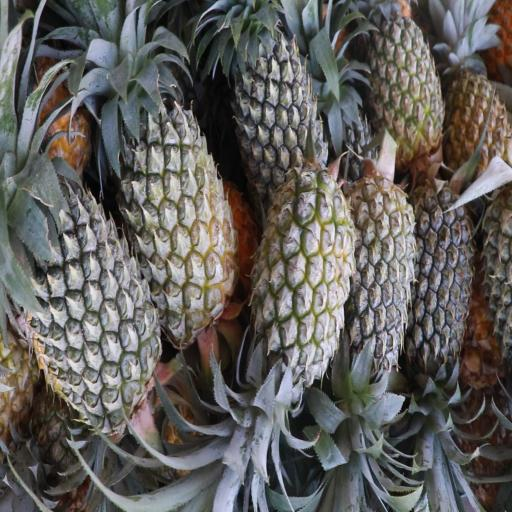------------------------------: (119, 91, 234, 326), (257, 172, 357, 380), (369, 0, 444, 156), (443, 42, 512, 187)
